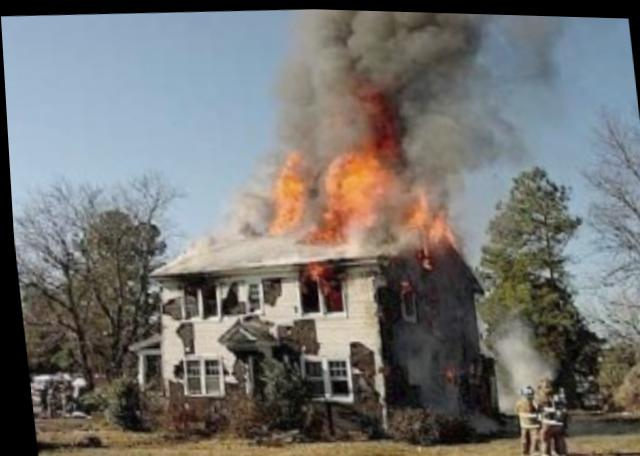fire: (219, 40, 491, 323)
